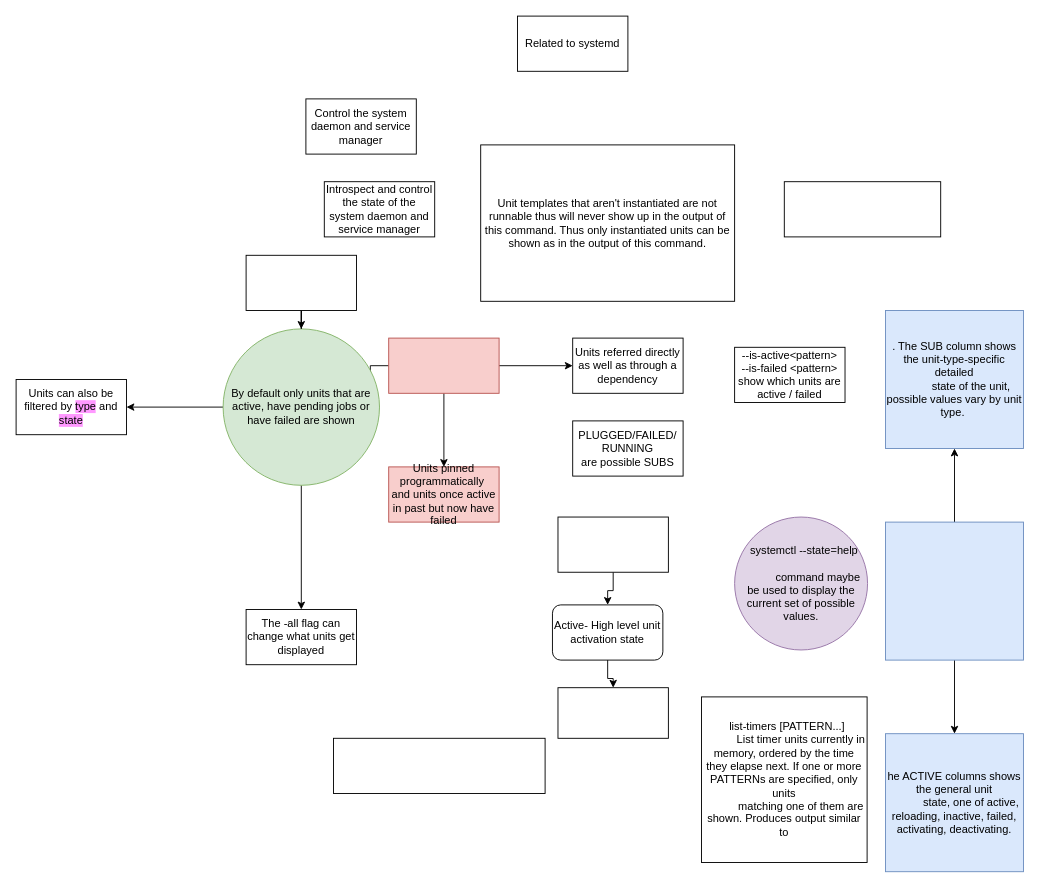
Some shapes in this 1040 by 888 pixel diagram are drawn without their labels. The centre of each missing label's shape, as x and y in pixels:
command@<username> systemctl start docker@samarth: point (862, 209)
list-units lists unit that systemd has in memory: point (443, 365)
LOAD-Whether unit declaration was properly loaded: point (612, 544)
one or more patterns can be specified to show which units can be seen: point (300, 282)
SUB- Low level unit activation state: point (612, 712)
the load state, one of loaded, not-found, bad-setting, error, masked.: point (954, 590)
To show all installed unit files use 'systemctl list-unit-files'.: point (439, 765)
